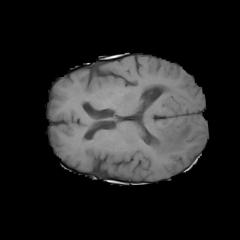glioma: (148, 121, 192, 157)
